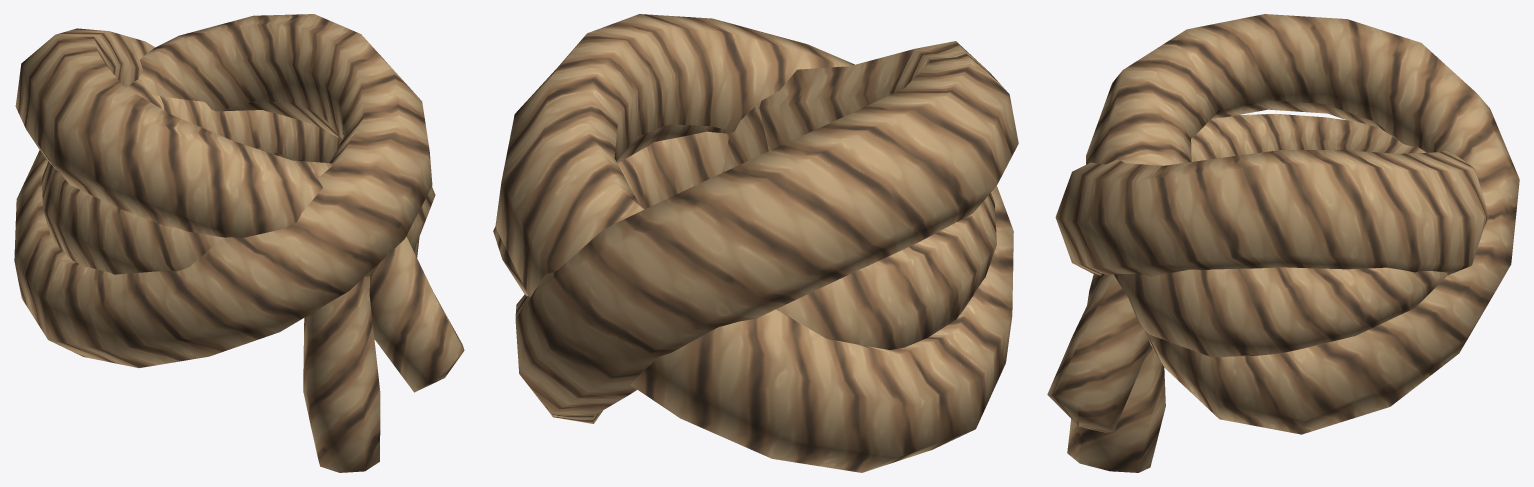
File: SM_MOD_rope_deco_town_02.fbx
3 views of the same model, side by side, from view 1: azimuth 30°, elevation 25°; view 2: azimuth 150°, elevation 25°; view 3: azimuth 270°, elevation 25° (orthographic). The views are drawn at different scales.
Visible parts, largest first — view 1: SM_MOD_rope_deco_town_02_LOD0; view 2: SM_MOD_rope_deco_town_02_LOD0; view 3: SM_MOD_rope_deco_town_02_LOD0.
Part boxes in pixels (<box>): SM_MOD_rope_deco_town_02_LOD0: <box>14,14,464,472</box>; SM_MOD_rope_deco_town_02_LOD0: <box>493,14,1018,472</box>; SM_MOD_rope_deco_town_02_LOD0: <box>1047,14,1519,472</box>.
Size of what is drawn, in the model's own units: 35.23 by 33.63 by 39.03.
